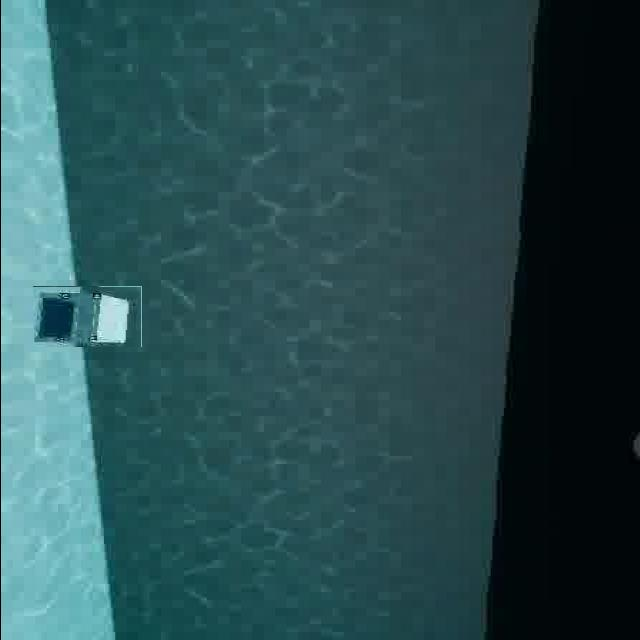Docking Station: (32, 286, 141, 347)
